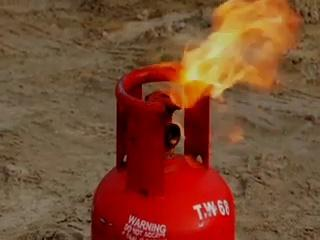Fire: (136, 6, 298, 166)
